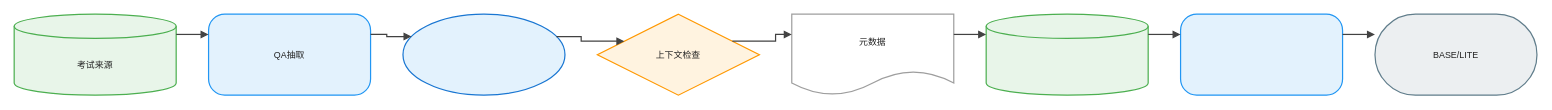
The diagram is 1552 pixels wide and 110 high, and some of its shapes have lost their labels. Each missing label, with the centre of its shape:
"地域标签" belongs at point (1261, 54).
"既有数据" belongs at point (1066, 54).
"母语质检" belongs at point (483, 54).
